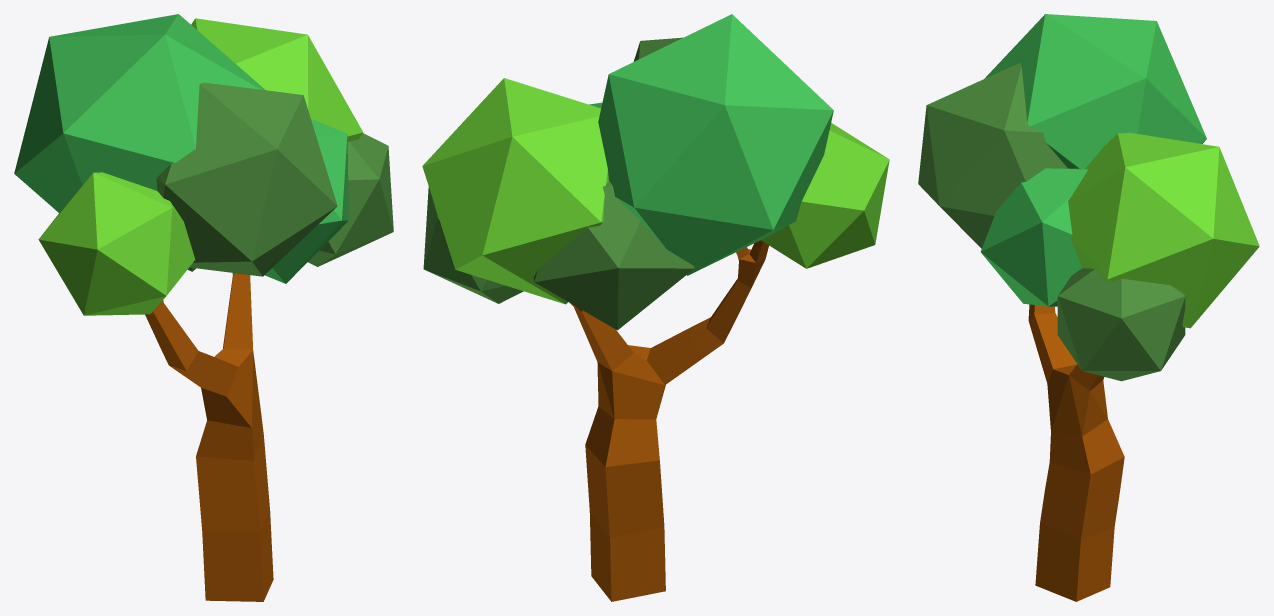
Rendered from Tree_01.fbx.
The picture shows the model from 3 angles, left to right: view 1: azimuth 30°, elevation 25°; view 2: azimuth 150°, elevation 25°; view 3: azimuth 270°, elevation 25°; orthographic projection. The views are drawn at different scales.
Visible parts, largest first — view 1: Tree; view 2: Tree; view 3: Tree.
Part boxes in pixels (x1,y1,x2,y2): Tree: [14, 14, 393, 601]; Tree: [422, 14, 889, 601]; Tree: [918, 14, 1259, 601].
Size of the model in its own units: 563 by 803 by 465.
